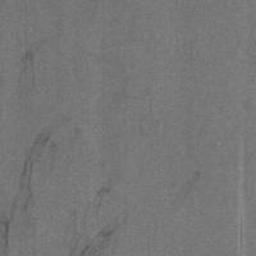Water spot: (0, 123, 60, 256), (4, 38, 52, 136), (61, 186, 128, 256), (172, 169, 204, 218)
